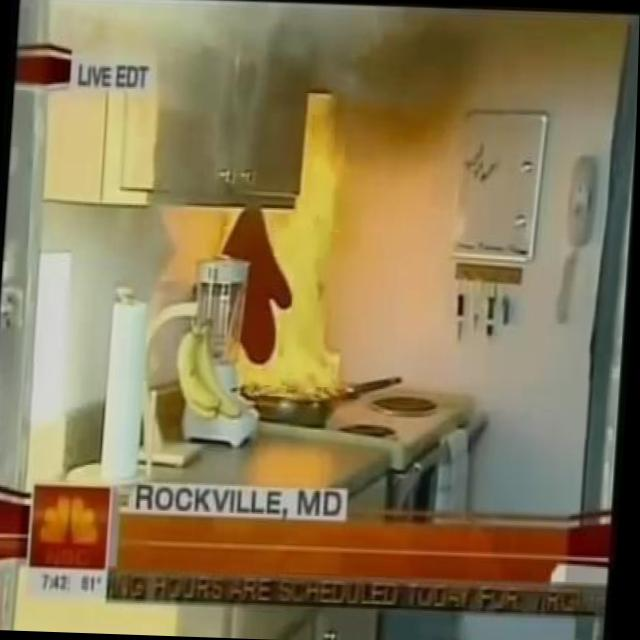fire: (210, 86, 382, 399)
